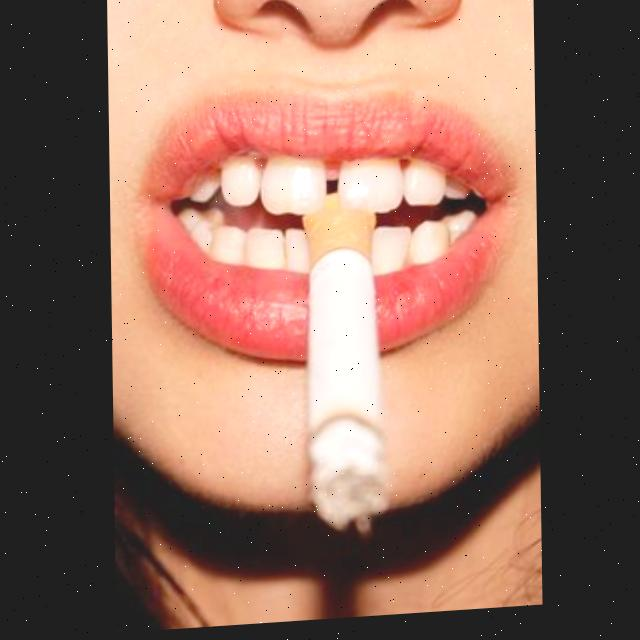cigarette: (304, 196, 381, 536)
